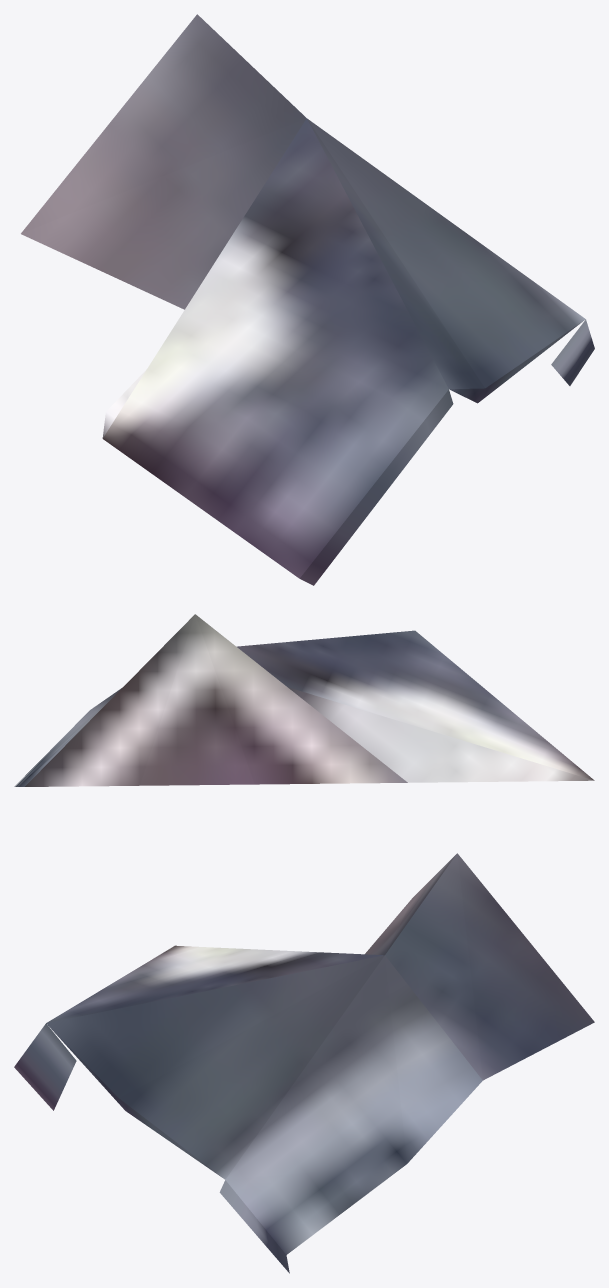
The picture shows the model from 3 angles, top to bottom: view 1: azimuth 30°, elevation 25°; view 2: azimuth 150°, elevation 25°; view 3: azimuth 270°, elevation 25°; orthographic projection. The views are drawn at different scales.
Size of the model in its own units: 4.84 by 3.03 by 5.17.
1 material, 1 textured.
